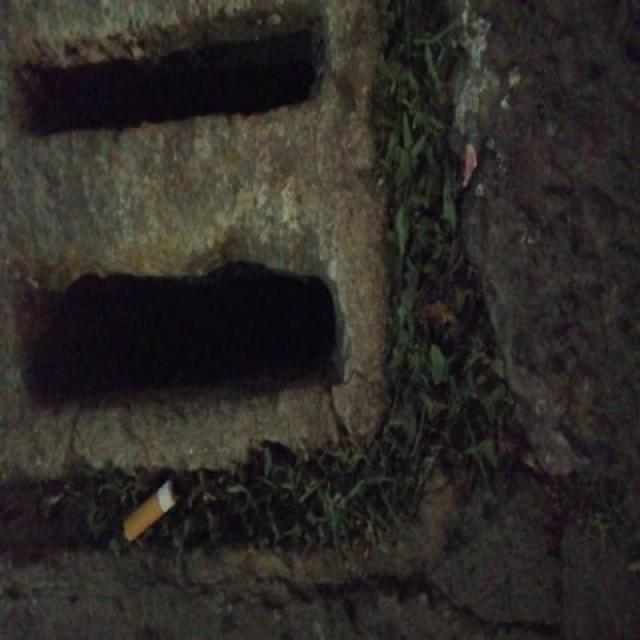non-organic waste: (117, 474, 183, 550)
